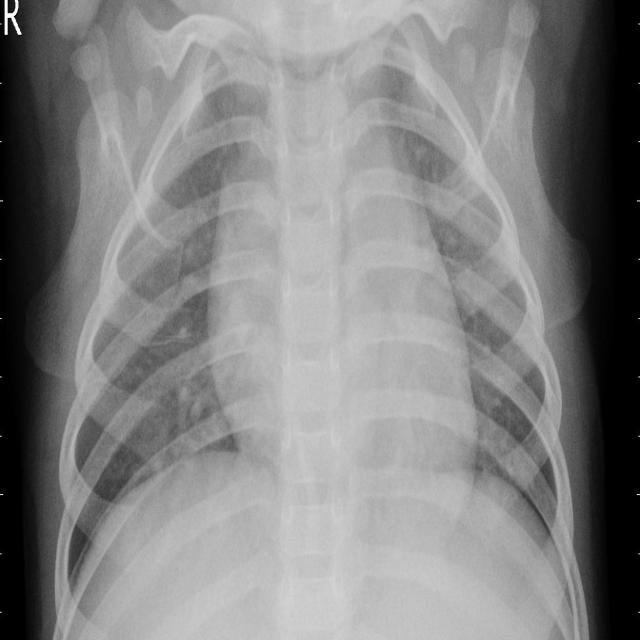no-pneumonia: (57, 71, 273, 605), (370, 38, 565, 531)
